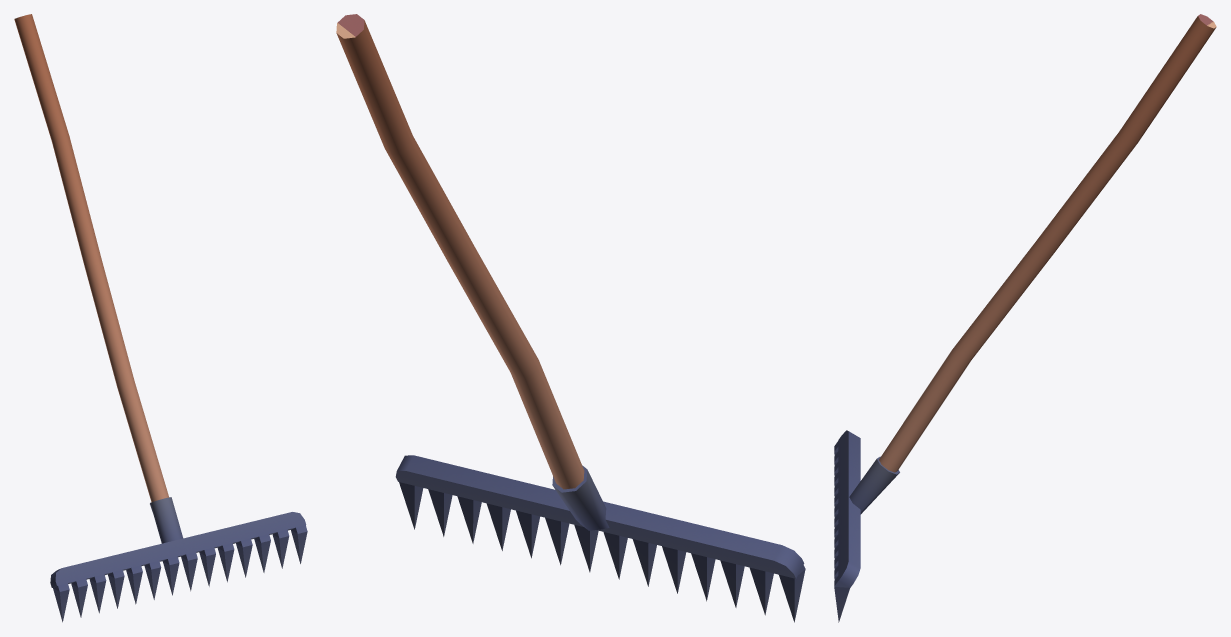
Rendered from rake.fbx.
The picture shows the model from 3 angles, left to right: view 1: azimuth 30°, elevation 25°; view 2: azimuth 150°, elevation 25°; view 3: azimuth 270°, elevation 25°; orthographic projection. The views are drawn at different scales.
Parts seen in each view (by area): view 1: rake; view 2: rake; view 3: rake.
Part boxes in pixels (x1=…): rake: x1=14, y1=14, x2=307, y2=622; rake: x1=336, y1=14, x2=805, y2=622; rake: x1=834, y1=14, x2=1216, y2=622.
Size of the model in its own units: 60.33 by 108 by 69.11.
